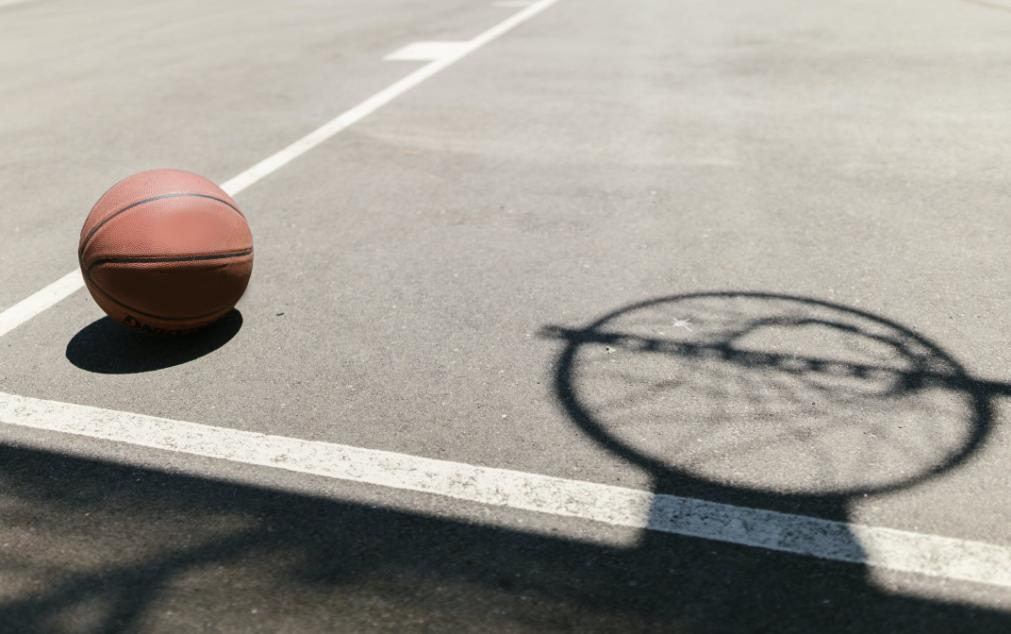ball: (80, 167, 256, 332)
